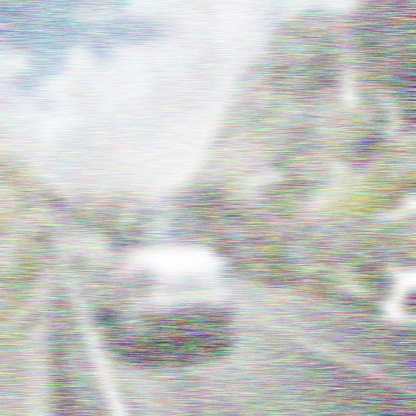Vehicle: (98, 200, 238, 351)
